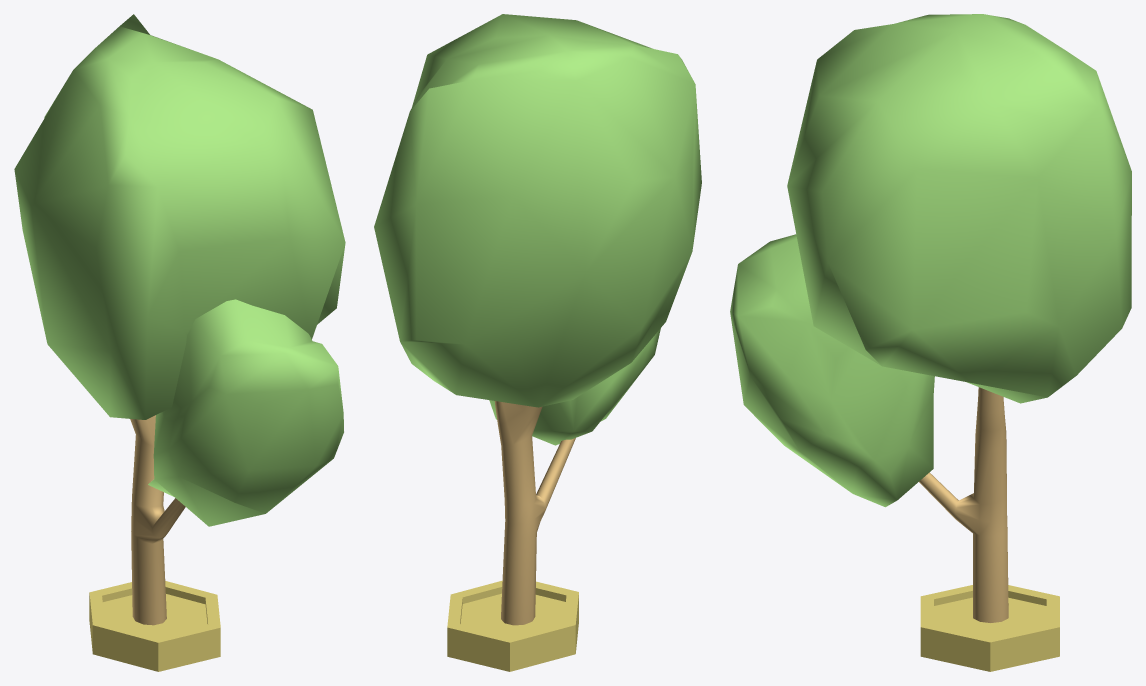
The model's file is tree .fbx.
The picture shows the model from 3 angles, left to right: view 1: azimuth 30°, elevation 25°; view 2: azimuth 150°, elevation 25°; view 3: azimuth 270°, elevation 25°; orthographic projection.
Parts seen in each view (by area): view 1: tree; view 2: tree; view 3: tree.
Part boxes in pixels (x1=…): tree: x1=14, y1=14, x2=345, y2=671; tree: x1=374, y1=14, x2=701, y2=671; tree: x1=730, y1=14, x2=1131, y2=671.
Bounding box in the file's own units: 21.48 × 41.88 × 25.33.
